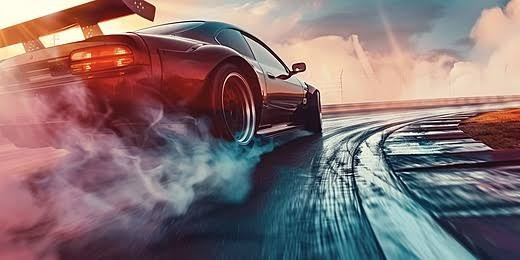car: (1, 6, 350, 257)
